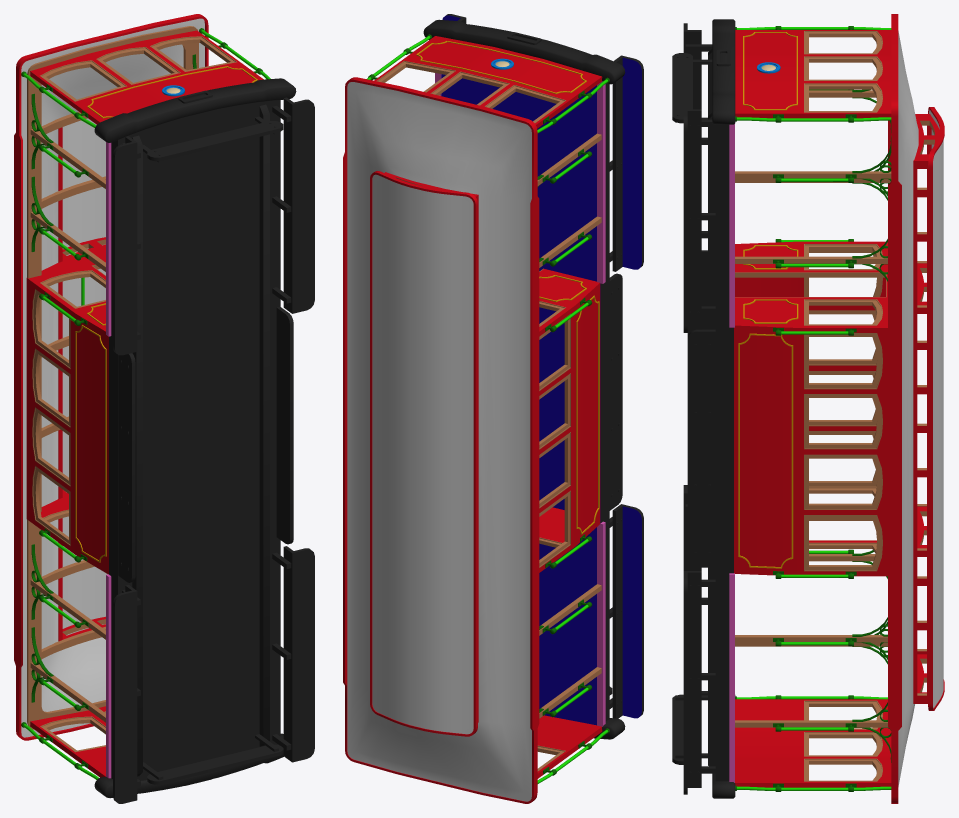
File: CableCar_01_LOD0.fbx
3 views of the same model, side by side, from view 1: azimuth 30°, elevation 25°; view 2: azimuth 150°, elevation 25°; view 3: azimuth 270°, elevation 25° (orthographic). The views are drawn at different scales.
Parts seen in each view (by area): view 1: CableCar_01_LOD0; view 2: CableCar_01_LOD0; view 3: CableCar_01_LOD0.
Part boxes in pixels (x1,y1,x2,y2): CableCar_01_LOD0: [14, 14, 314, 803]; CableCar_01_LOD0: [343, 14, 643, 803]; CableCar_01_LOD0: [672, 14, 944, 803].
Bounding box in the file's own units: 3 × 9.81 × 3.43.
